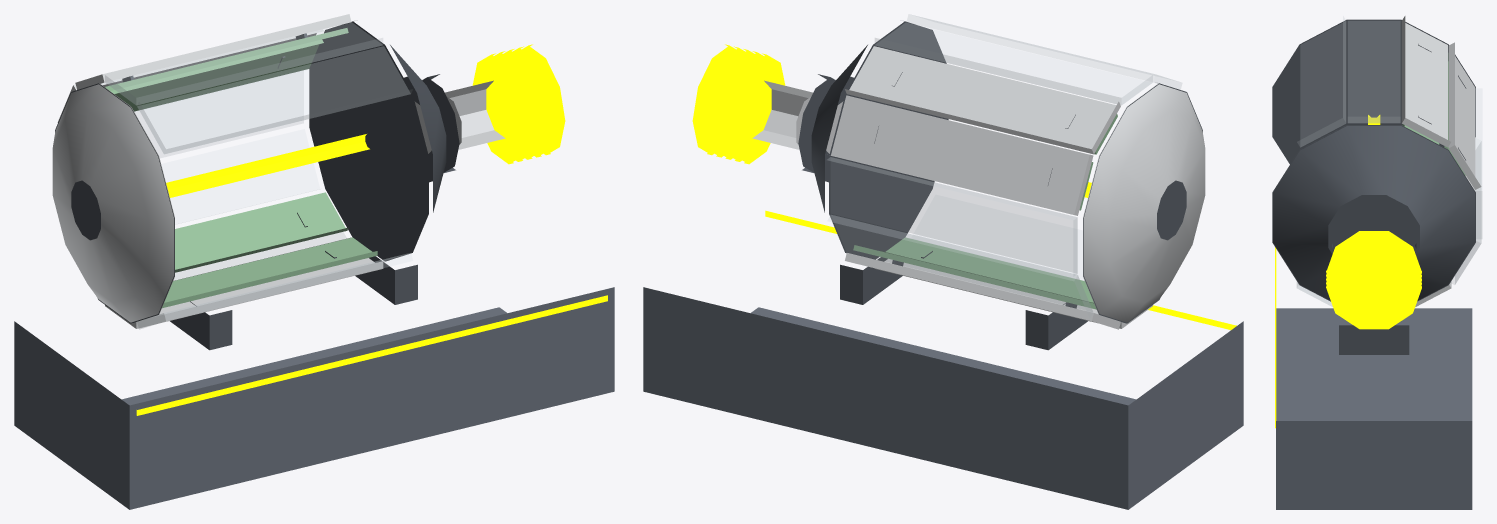
The model's file is ext_memorial_aegis_04.glb.
3 renders of one model, left to right at view 1: azimuth 30°, elevation 25°; view 2: azimuth 150°, elevation 25°; view 3: azimuth 270°, elevation 25°, orthographic. The views are drawn at different scales.
Parts seen in each view (by area): view 1: Plinth, Drum_Solarium_Glass, Bulkhead_Discs, Fwd_Endcap_Dome, Valley_Land, Drum_Hull_Strips, Fusion_Coils, Axial_Sun_Spine, Saddles, Plinth_Seam, Starport_Spine, Aft_Baffle_Bulkhead (+1 smaller); view 2: Plinth, Drum_Hull_Strips, Drum_Solarium_Glass, Fwd_Endcap_Dome, Bulkhead_Discs, Fusion_Coils, Valley_Land, Saddles, Starport_Spine, Aft_Baffle_Bulkhead, Docking_Collar, Plinth_Seam; view 3: Plinth, Aft_Baffle_Bulkhead, Bulkhead_Discs, Drum_Solarium_Glass, Drum_Hull_Strips, Fusion_Coils, Saddles, Docking_Collar, Plinth_Seam.
Boxes of the visible parts, x1,y1,x2,y2 form: Plinth: [14, 287, 614, 509]; Drum_Solarium_Glass: [105, 23, 412, 329]; Bulkhead_Discs: [55, 21, 428, 323]; Fwd_Endcap_Dome: [52, 83, 174, 322]; Valley_Land: [105, 28, 377, 308]; Drum_Hull_Strips: [57, 14, 383, 328]; Fusion_Coils: [472, 44, 565, 164]; Axial_Sun_Spine: [166, 134, 369, 197]; Saddles: [170, 256, 417, 350]; Plinth_Seam: [136, 295, 607, 415]; Starport_Spine: [414, 80, 505, 153]; Aft_Baffle_Bulkhead: [390, 45, 446, 212]; Plinth: [643, 287, 1243, 509]; Drum_Hull_Strips: [830, 46, 1152, 329]; Drum_Solarium_Glass: [827, 14, 1181, 317]; Fwd_Endcap_Dome: [1083, 83, 1205, 322]; Bulkhead_Discs: [829, 21, 1202, 323]; Fusion_Coils: [692, 44, 785, 164]; Valley_Land: [853, 114, 1117, 309]; Saddles: [840, 257, 1087, 350]; Starport_Spine: [752, 80, 843, 153]; Aft_Baffle_Bulkhead: [811, 45, 867, 212]; Docking_Collar: [798, 74, 835, 172]; Plinth_Seam: [765, 210, 1236, 329]; Plinth: [1276, 308, 1472, 509]; Aft_Baffle_Bulkhead: [1273, 125, 1475, 300]; Bulkhead_Discs: [1272, 19, 1475, 301]; Drum_Solarium_Glass: [1297, 16, 1482, 306]; Drum_Hull_Strips: [1401, 16, 1481, 306]; Fusion_Coils: [1326, 231, 1421, 329]; Saddles: [1339, 325, 1409, 354]; Docking_Collar: [1332, 212, 1416, 251]; Plinth_Seam: [1275, 247, 1276, 428].
Size of the model in its own units: 3.4 by 2.47 by 1.5.
